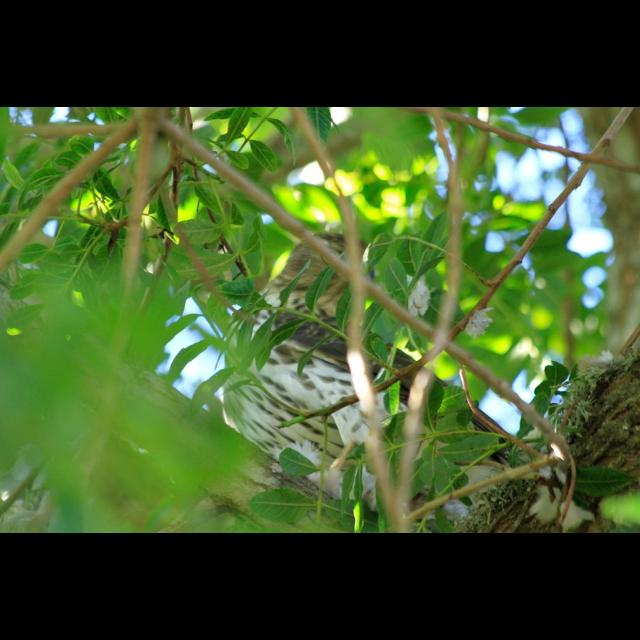Flower: (404, 272, 432, 314), (468, 312, 494, 340)
